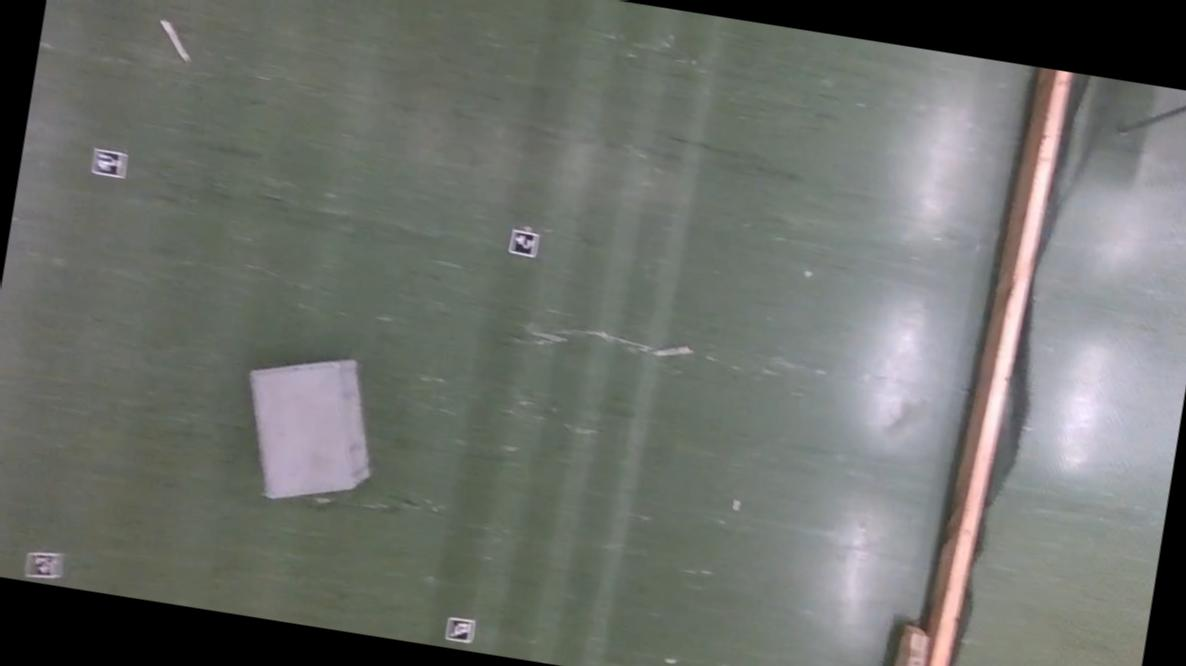probes: (644, 332, 706, 370), (156, 18, 192, 60)
rako: (231, 341, 388, 512)
